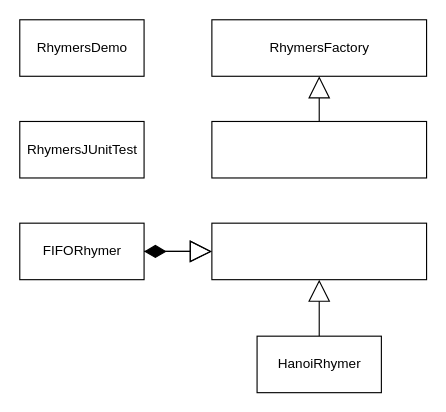
Some shapes in this 446 by 412 pixel diagram are drawn without their labels. The box of each missing label's shape, as (x1, y1, x2, y2) in pixels:
DefaultCountingOutRhymer: (211, 222, 427, 280)
DefaultRhymersFactory: (211, 120, 427, 178)
